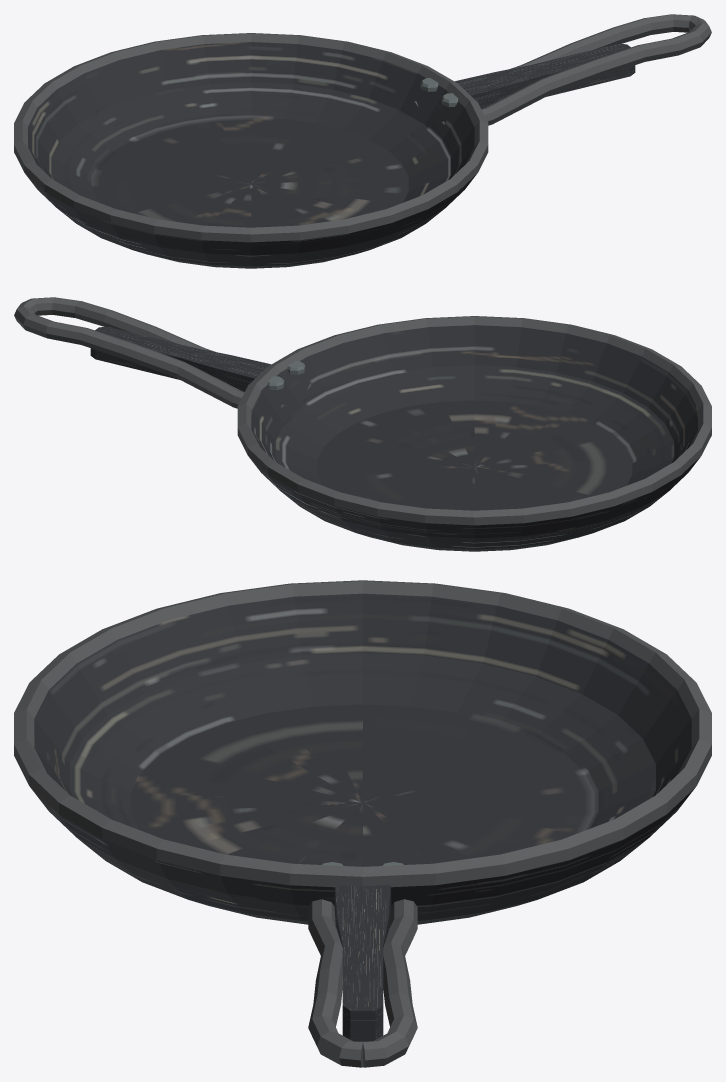
File: frying_pan.glb
3 renders of one model, top to bottom at view 1: azimuth 30°, elevation 25°; view 2: azimuth 150°, elevation 25°; view 3: azimuth 270°, elevation 25°, orthographic. The views are drawn at different scales.
Parts seen in each view (by area): view 1: Open seasoned iron pan, Handle rail, Handle web, Handle rail.001; view 2: Open seasoned iron pan, Handle rail.001, Handle web, Handle rail; view 3: Open seasoned iron pan, Handle web, Handle rail.001, Handle rail.
Boxes of the visible parts, <box> form: Open seasoned iron pan: <box>14,33,488,268</box>; Handle rail: <box>439,19,711,125</box>; Handle web: <box>455,44,635,108</box>; Handle rail.001: <box>413,14,703,106</box>; Open seasoned iron pan: <box>237,316,711,551</box>; Handle rail.001: <box>14,302,286,408</box>; Handle web: <box>90,327,270,391</box>; Handle rail: <box>22,297,312,389</box>; Open seasoned iron pan: <box>14,580,711,924</box>; Handle web: <box>334,885,391,1041</box>; Handle rail.001: <box>362,899,417,1067</box>; Handle rail: <box>308,899,362,1067</box>.
Bounding box in the file's own units: 0.4393 × 0.0454 × 0.2725.
Materials: 4 (1 with a texture image).
